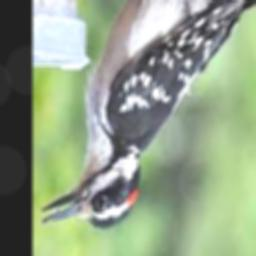Woodpecker: (41, 0, 256, 229)
